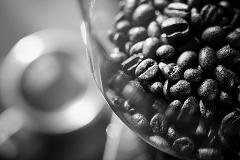organic: (133, 52, 156, 84), (162, 20, 190, 40), (204, 45, 220, 75)
